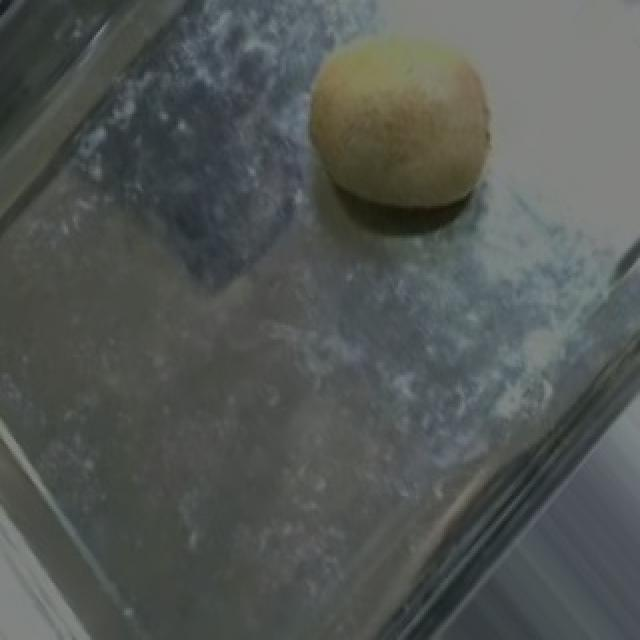Fruit: (274, 5, 526, 248)
